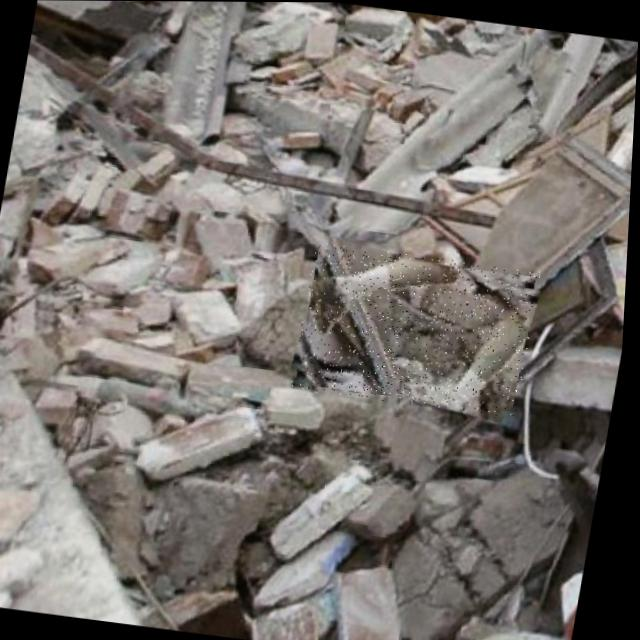Person in Rubble: (293, 241, 544, 417)
